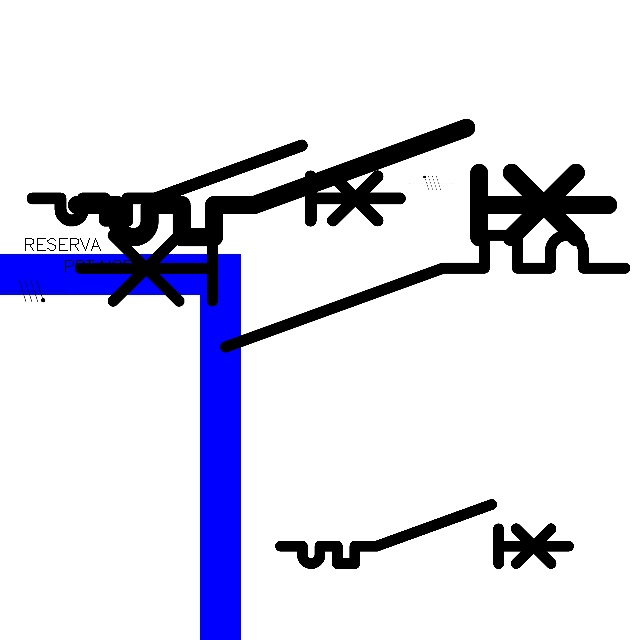interruptor_termomagnetico: (65, 221, 638, 361), (63, 114, 622, 251), (23, 136, 409, 230), (273, 497, 576, 571)
